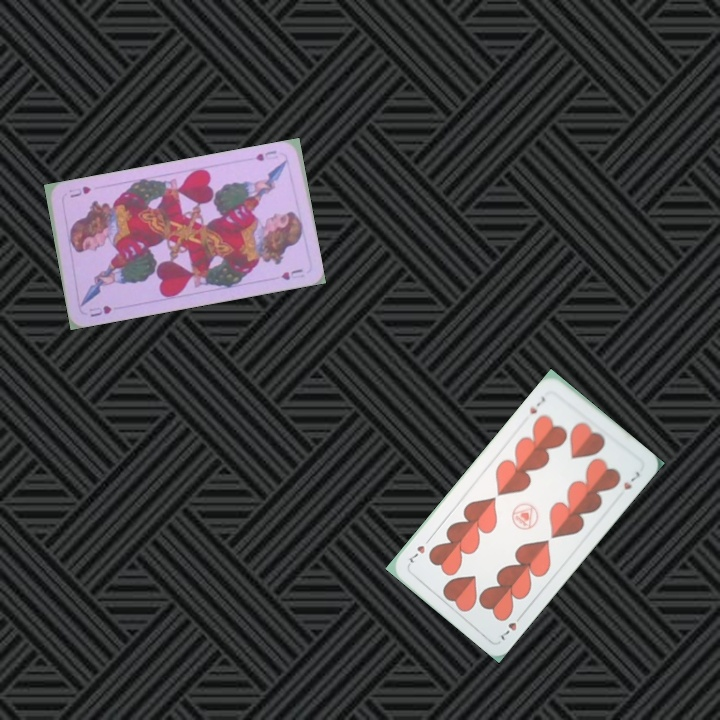H7: (496, 609, 525, 643), (525, 392, 548, 417)
HU: (251, 146, 282, 164), (85, 301, 114, 320)
